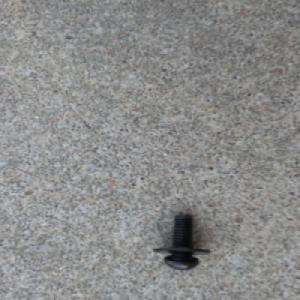BoltWasher: (149, 212, 212, 270)
